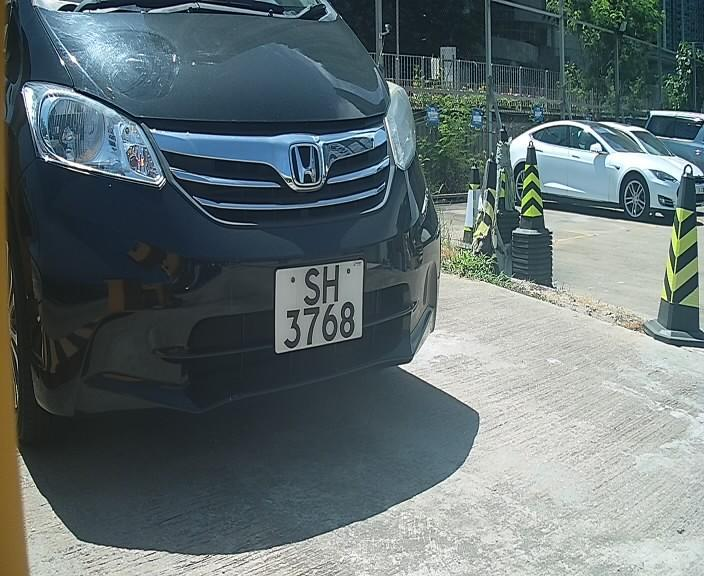privatecar: (7, 13, 463, 453)
